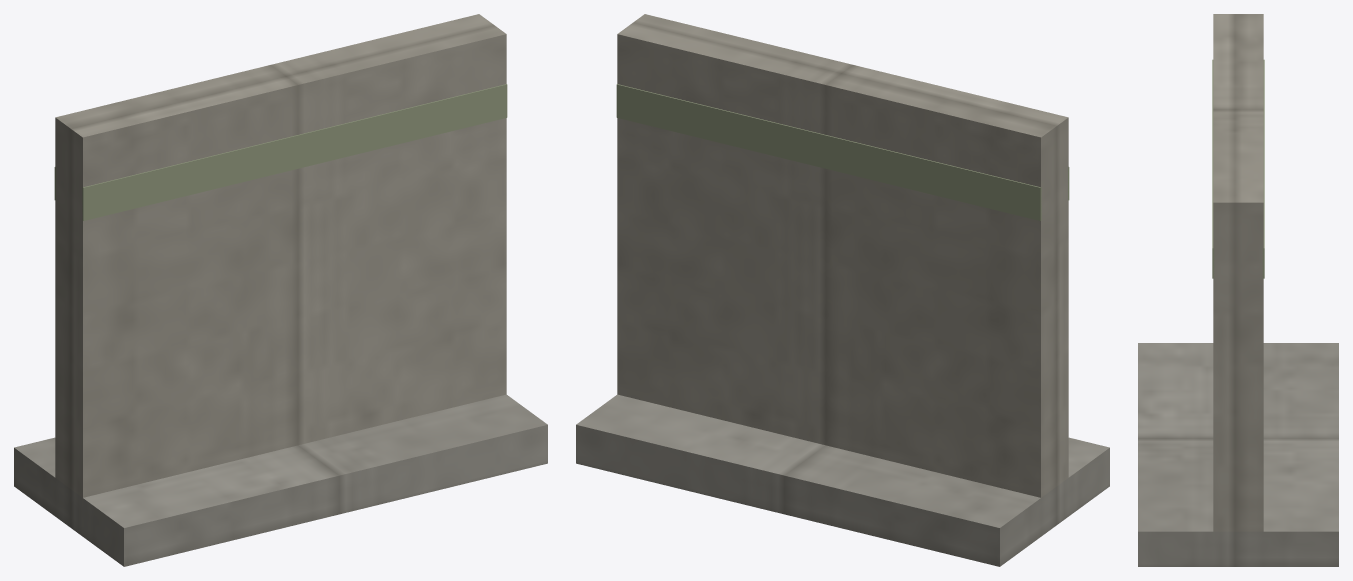
The model's file is mb-wall.garrison-v1.lod1.glb.
The picture shows the model from 3 angles, left to right: view 1: azimuth 30°, elevation 25°; view 2: azimuth 150°, elevation 25°; view 3: azimuth 270°, elevation 25°; orthographic projection. The views are drawn at different scales.
Parts seen in each view (by area): view 1: mb-wall; view 2: mb-wall; view 3: mb-wall.
Part boxes in pixels (bbox=[...]): mb-wall: bbox=[14, 14, 547, 566]; mb-wall: bbox=[576, 14, 1109, 566]; mb-wall: bbox=[1138, 14, 1338, 566].
Bounding box in the file's own units: 4 × 3.6 × 1.8.
2 materials, 1 textured.
